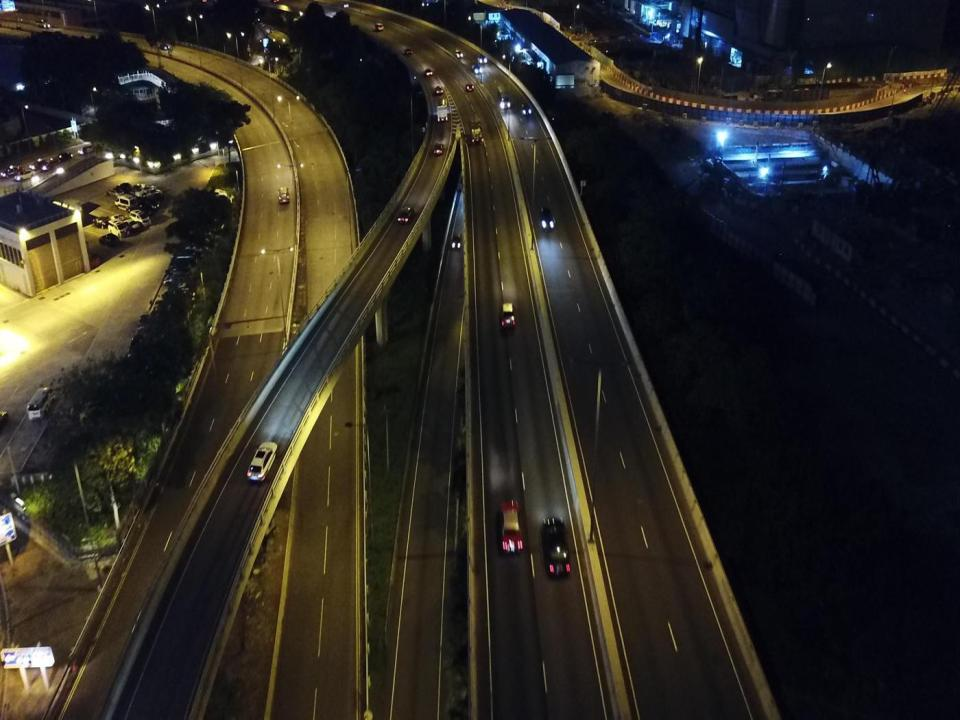car: (540, 516, 572, 580), (246, 439, 279, 480), (500, 500, 524, 553), (500, 301, 516, 329), (540, 203, 556, 231), (129, 209, 151, 227), (98, 233, 121, 249), (138, 197, 160, 213), (397, 204, 414, 224), (110, 182, 135, 195), (111, 215, 134, 229), (276, 185, 290, 206), (450, 230, 463, 250), (136, 185, 155, 198), (77, 144, 99, 154), (107, 187, 125, 199), (206, 189, 227, 199), (92, 217, 110, 228), (1, 167, 22, 176), (27, 158, 48, 167), (52, 151, 73, 160), (144, 189, 162, 199), (42, 159, 62, 168), (14, 171, 36, 179), (434, 142, 444, 156), (521, 102, 531, 116), (477, 54, 487, 63), (473, 65, 482, 74), (159, 43, 170, 50), (435, 86, 444, 94), (465, 84, 474, 92), (426, 68, 434, 76), (340, 1, 349, 8), (404, 48, 413, 55)
truck: (496, 82, 511, 111), (470, 116, 484, 144), (436, 98, 449, 122)
van: (27, 386, 55, 420), (115, 195, 137, 211), (108, 220, 128, 237), (34, 18, 50, 27), (375, 22, 383, 32), (454, 48, 462, 58)
